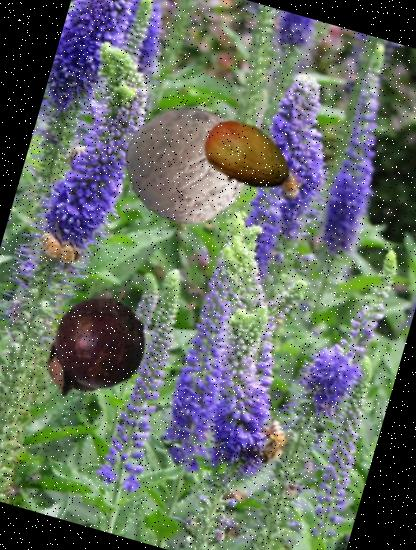Mangostan: (26, 278, 162, 414)
Papaya: (189, 99, 305, 215)
Walnut: (113, 89, 264, 240)
